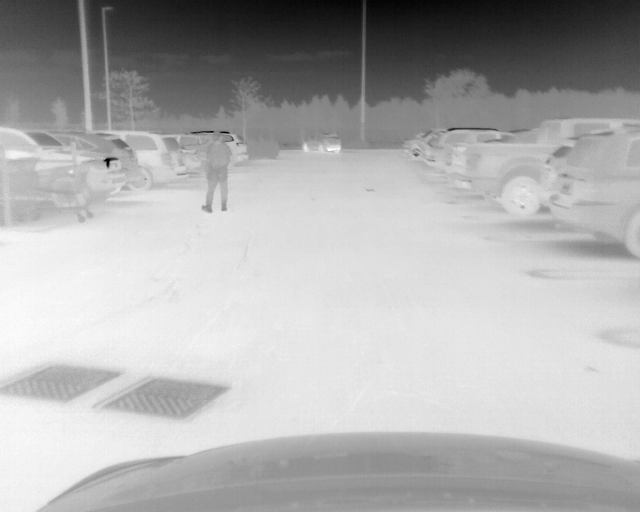car: (465, 114, 640, 214), (546, 129, 640, 256), (1, 128, 123, 212), (55, 130, 141, 204), (104, 130, 190, 193), (423, 127, 516, 174), (207, 130, 249, 170), (400, 127, 448, 162), (168, 133, 205, 178), (302, 131, 344, 154)
people: (200, 134, 230, 213)
